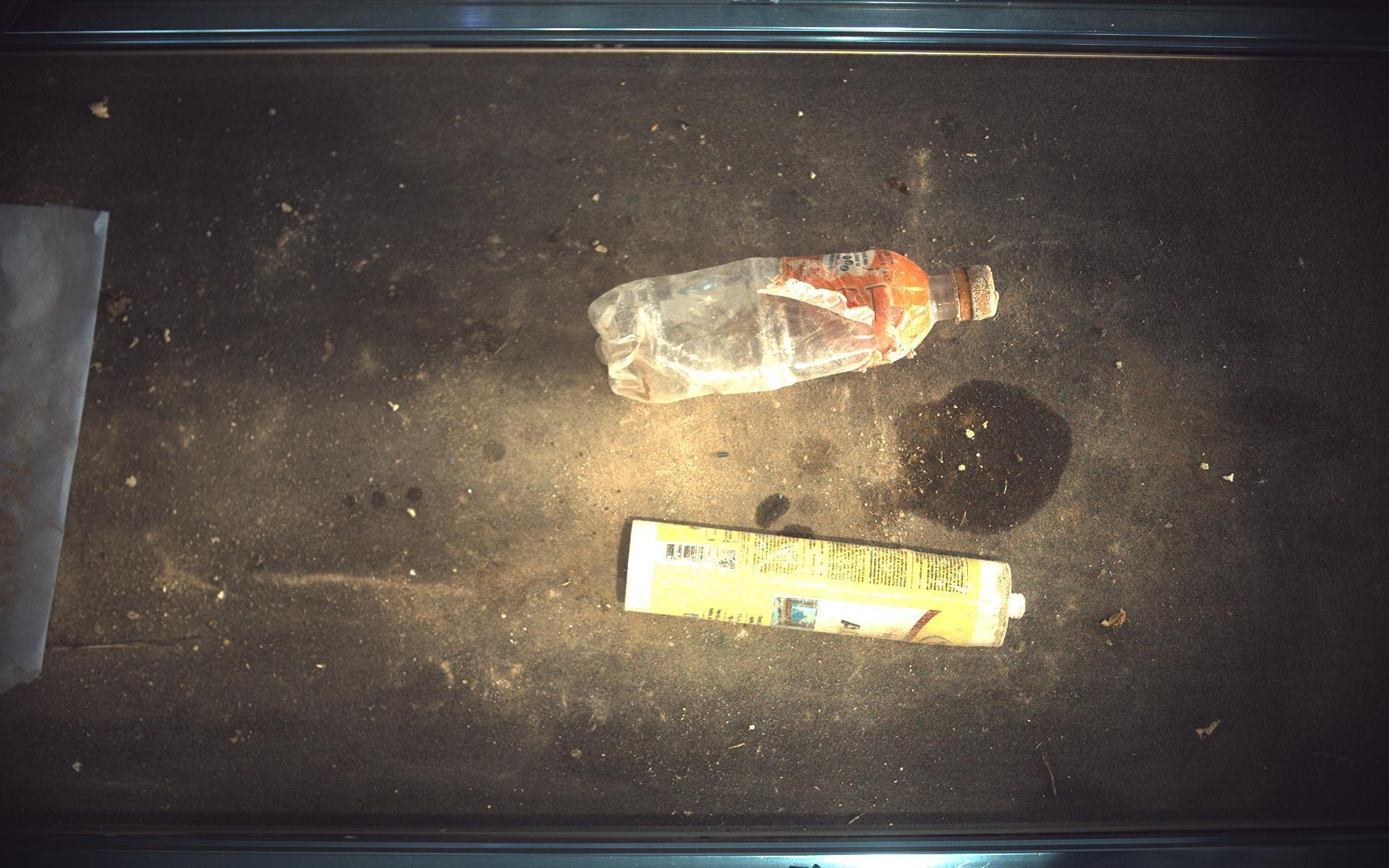general_w: (590, 249, 1001, 403)
plastic: (625, 519, 1027, 647)
